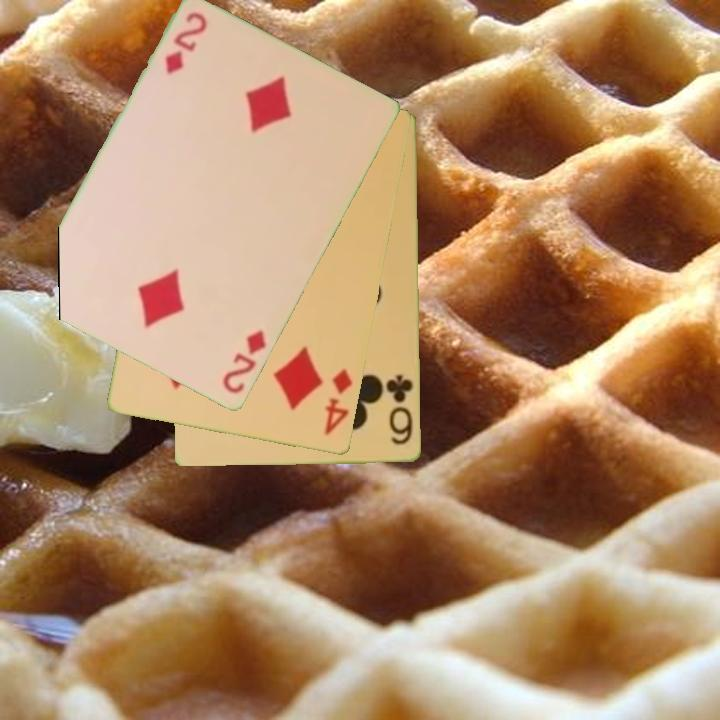2d: (218, 327, 269, 397), (161, 9, 210, 78)
4d: (322, 366, 356, 439)
6c: (383, 372, 416, 448)
